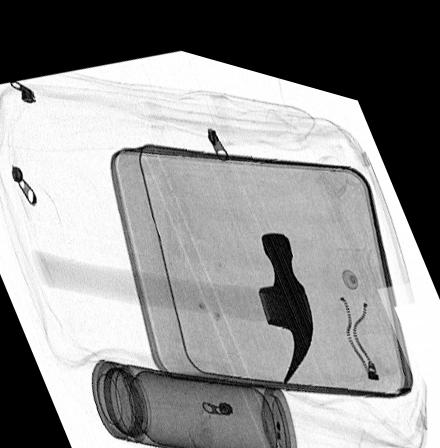Hammer: (29, 216, 315, 371)
